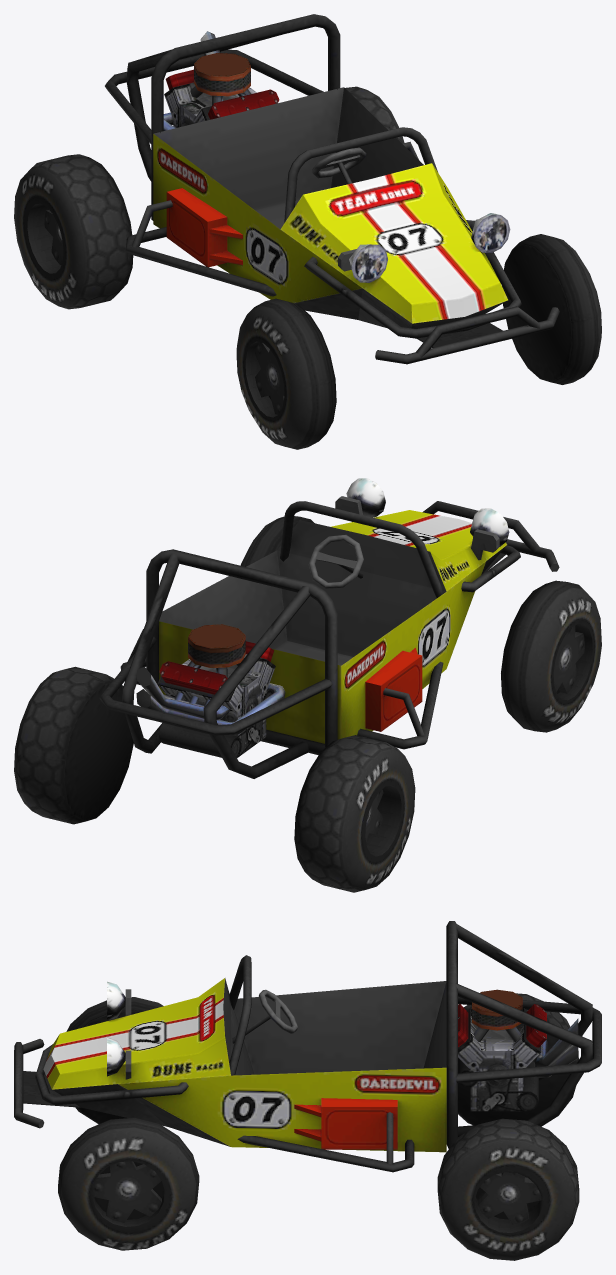
The model's file is buggy.fbx.
The picture shows the model from 3 angles, top to bottom: view 1: azimuth 30°, elevation 25°; view 2: azimuth 150°, elevation 25°; view 3: azimuth 270°, elevation 25°; orthographic projection. The views are drawn at different scales.
Visible parts, largest first — view 1: baja_body, baja_rear_wheel.001, baja_front_wheel.001, baja_front_wheel, baja_rear_wheel; view 2: baja_body, baja_rear_wheel.001, baja_rear_wheel, baja_front_wheel.001, baja_front_wheel; view 3: baja_body, baja_rear_wheel, baja_front_wheel, baja_rear_wheel.001, baja_front_wheel.001.
Boxes of the visible parts, box(x1,y1,x2,y2) form: baja_body: box(105, 14, 559, 364); baja_rear_wheel.001: box(14, 154, 133, 309); baja_front_wheel.001: box(236, 298, 336, 449); baja_front_wheel: box(502, 234, 601, 384); baja_rear_wheel: box(345, 86, 404, 143); baja_body: box(99, 478, 559, 778); baja_rear_wheel.001: box(294, 735, 415, 892); baja_rear_wheel: box(14, 666, 133, 824); baja_front_wheel.001: box(501, 580, 601, 732); baja_front_wheel: box(240, 516, 314, 566); baja_body: box(14, 921, 601, 1172); baja_rear_wheel: box(437, 1118, 579, 1260); baja_front_wheel: box(58, 1117, 199, 1250); baja_rear_wheel.001: box(458, 993, 578, 1126); baja_front_wheel.001: box(66, 997, 163, 1124).
Bounding box in the file's own units: 256 × 187 × 418.
